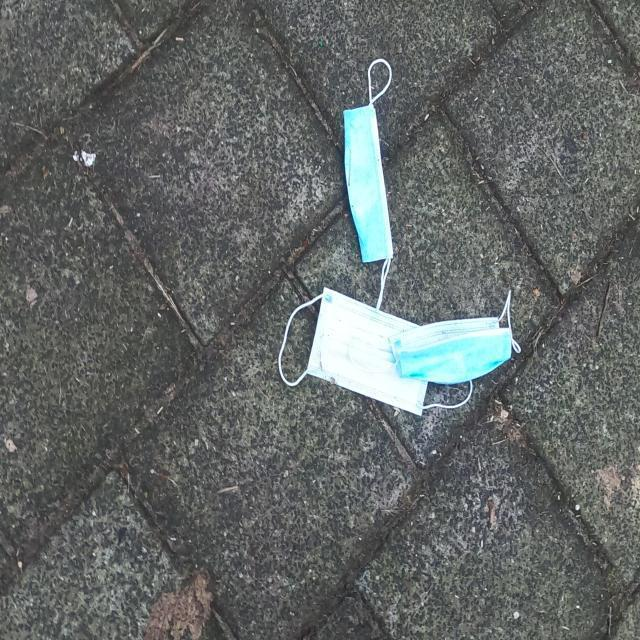Mask: (277, 285, 474, 418), (347, 287, 522, 388), (342, 56, 394, 314)
